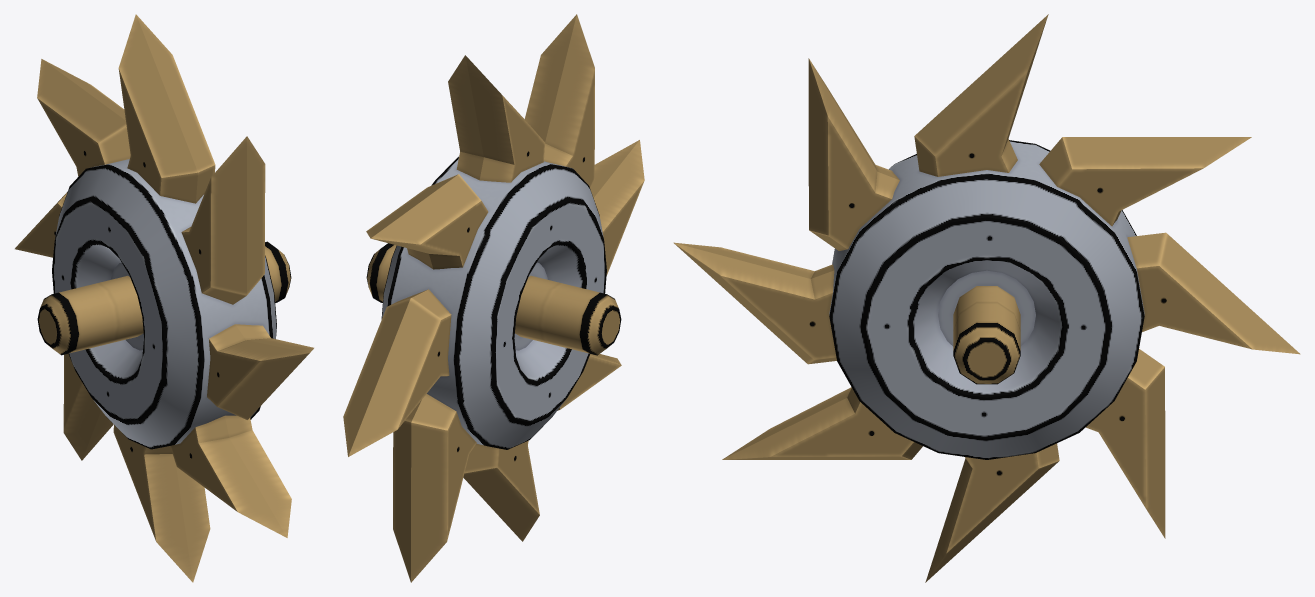
File: saw_blade.glb
The picture shows the model from 3 angles, left to right: view 1: azimuth 30°, elevation 25°; view 2: azimuth 150°, elevation 25°; view 3: azimuth 270°, elevation 25°; orthographic projection. The views are drawn at different scales.
Parts seen in each view (by area): view 1: Blade; view 2: Blade; view 3: Blade.
Part boxes in pixels (x1,y1,x2,y2): Blade: (15,14,313,582); Blade: (343,14,644,582); Blade: (673,14,1300,582).
Size of the model in its own units: 5.28 by 11.43 by 11.43.
1 material, 1 textured.
